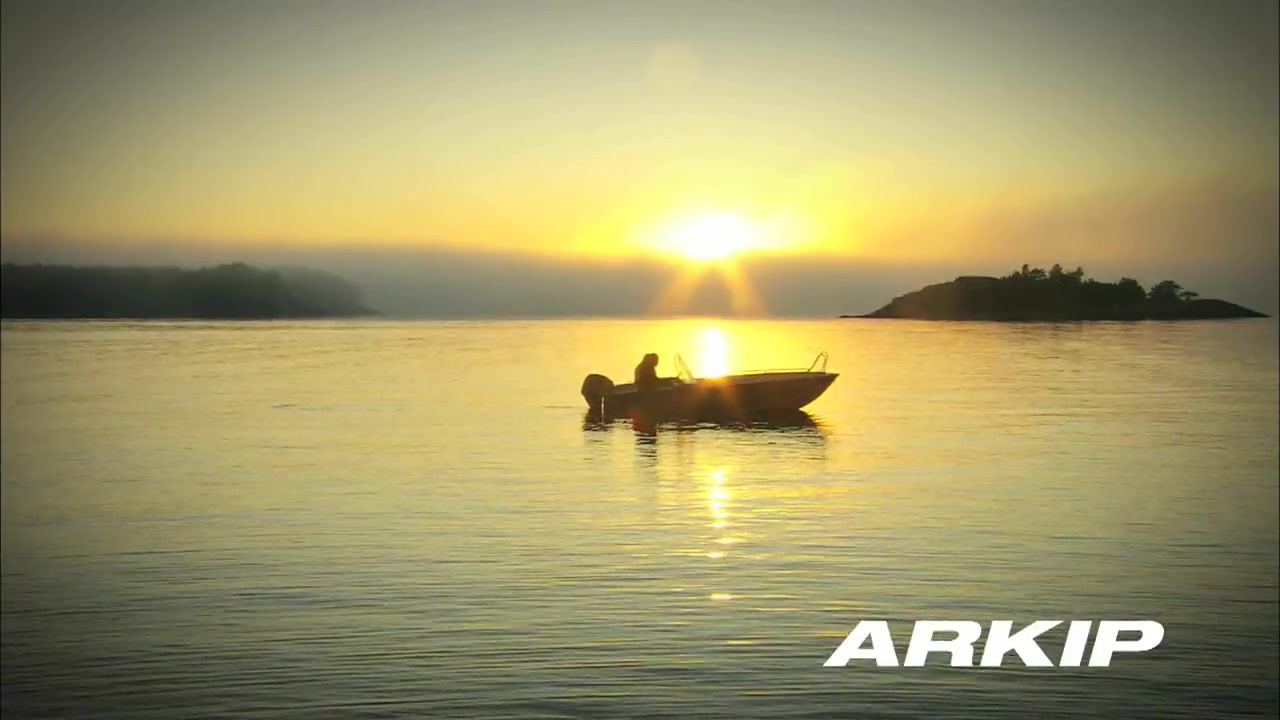boat: (581, 353, 839, 434)
